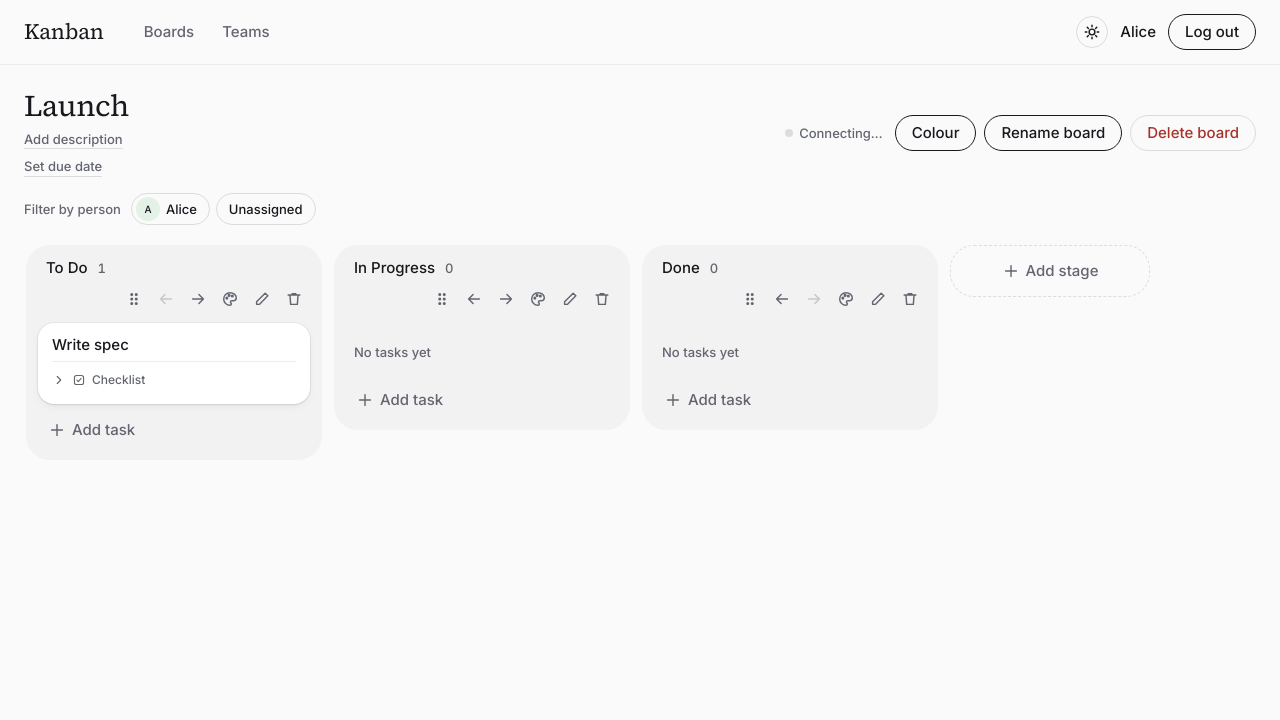
Test case: task colours › gives a task a colour, shown as an outline and in its name
The image size is (1280, 720).
Step 1. Click the button with aria-label "open task write spec" → (90, 344), box top-left (52, 335), bottom-right (129, 354)
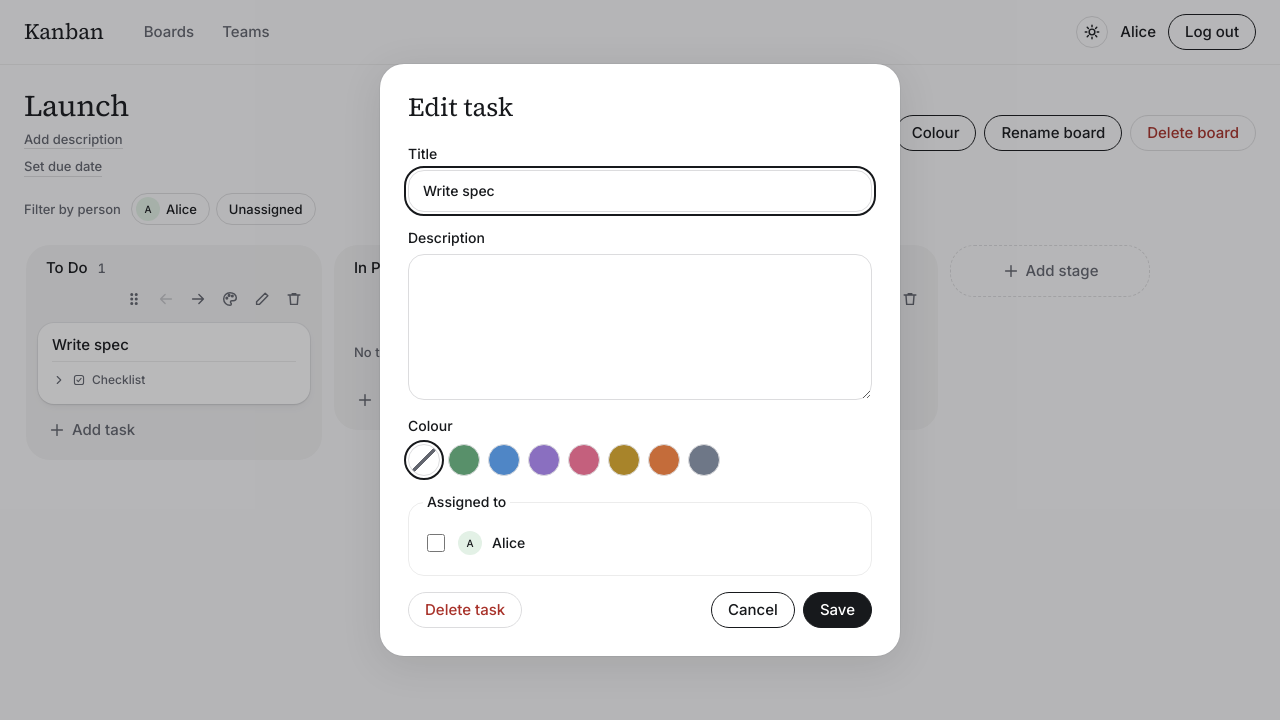
Step 2. Click the radio button named "Sky" → (504, 460), box top-left (488, 444), bottom-right (520, 476)
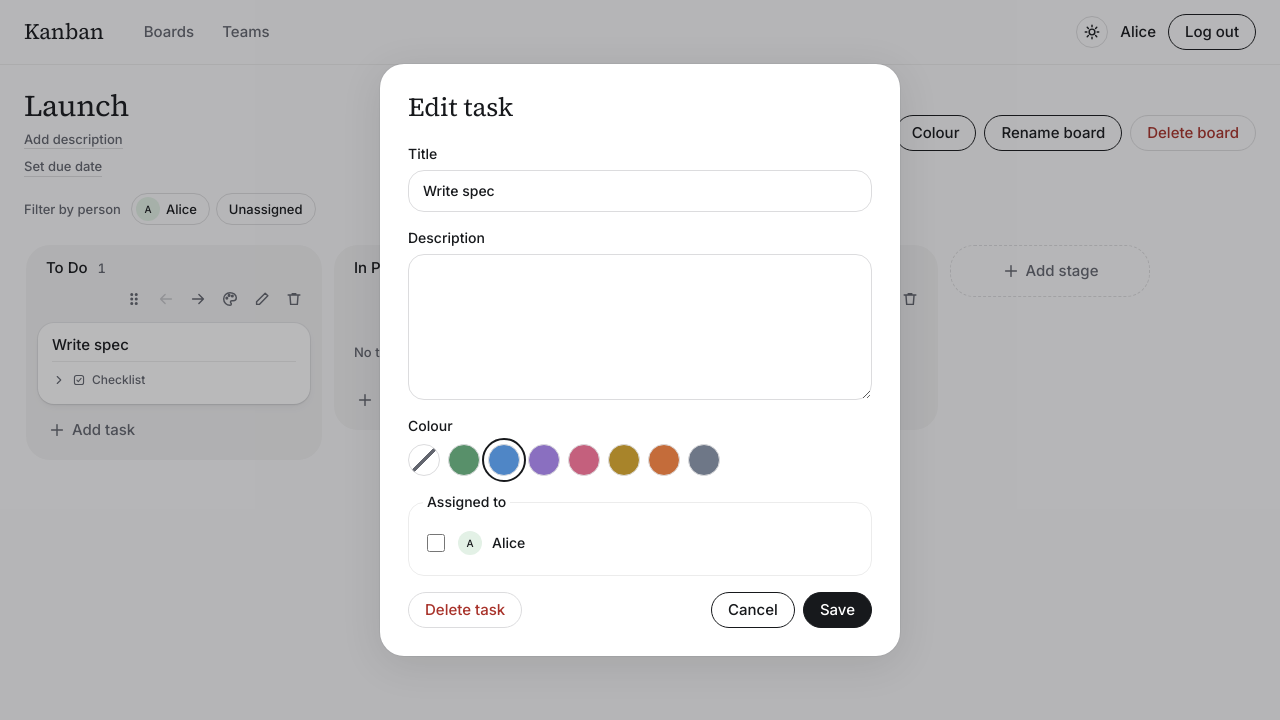
Step 3. Click the button "Save" → (837, 610), box top-left (803, 592), bottom-right (872, 628)
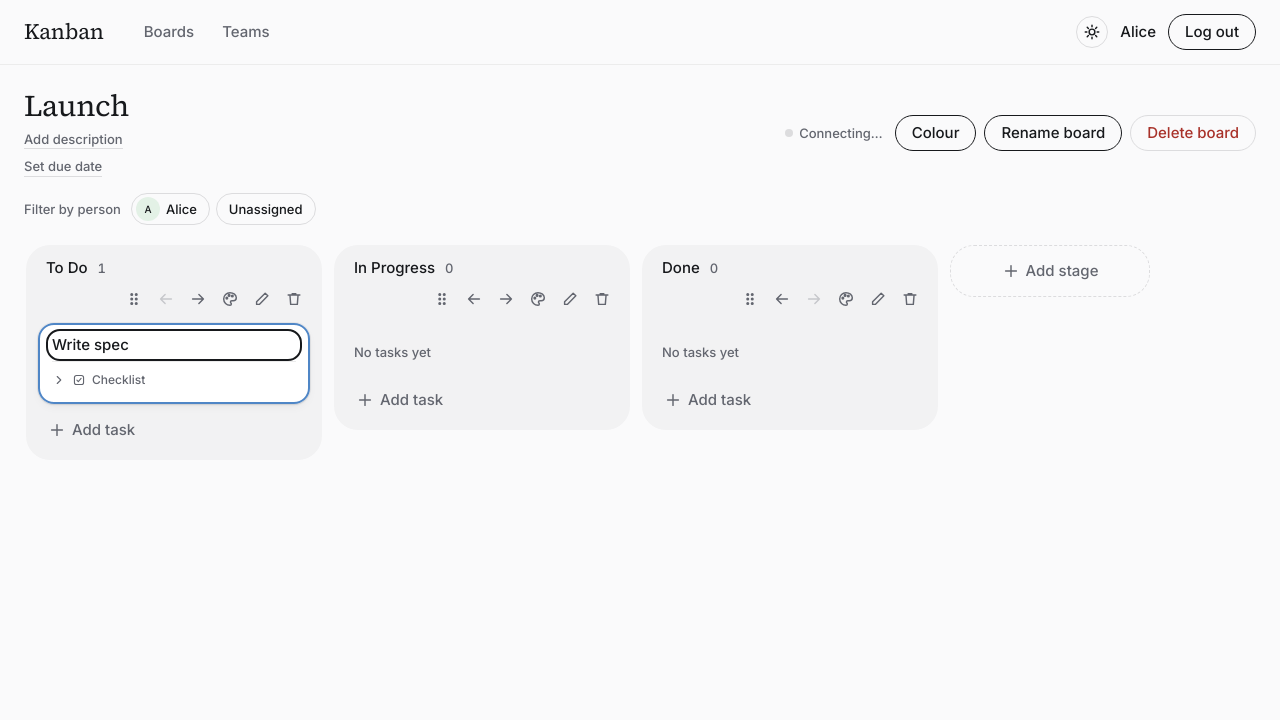
Check: the dialog is gone
